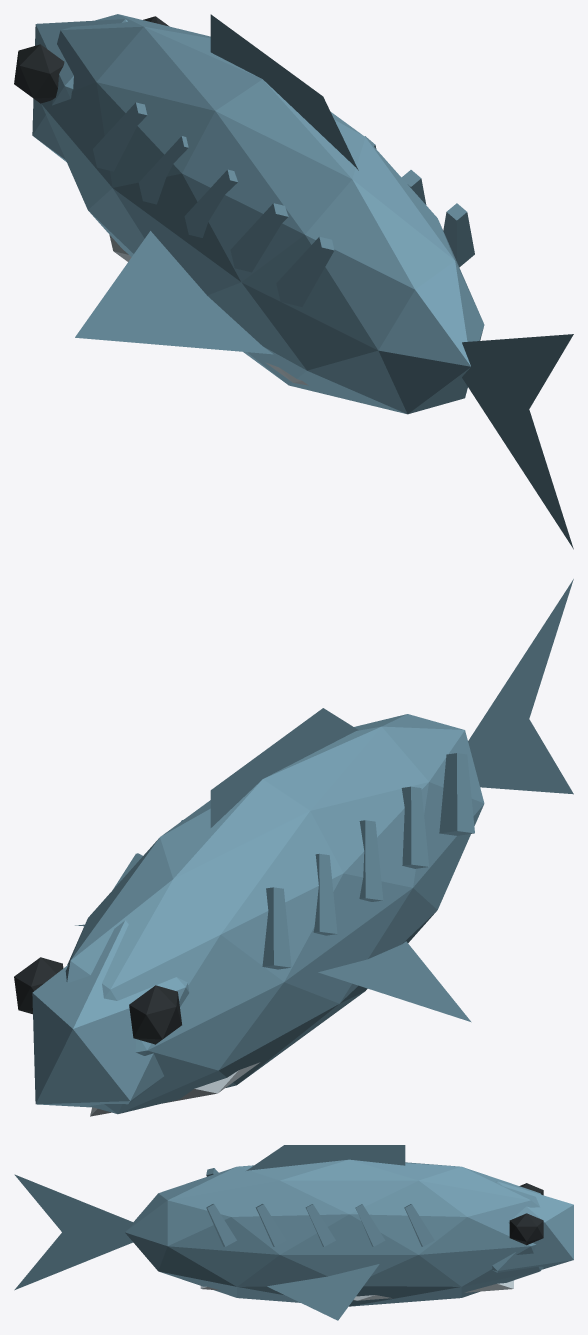
Rendered from Mackerel.fbx.
The picture shows the model from 3 angles, top to bottom: view 1: azimuth 30°, elevation 25°; view 2: azimuth 150°, elevation 25°; view 3: azimuth 270°, elevation 25°; orthographic projection. The views are drawn at different scales.
Visible parts, largest first — view 1: Body, Pectoral1, TailFin, DorsalFin, Head, Eye1, Stripe1_4, Stripe1_3, Stripe1_0, Stripe1_2, Stripe-1_4, Stripe1_1; view 2: Body, Head, TailFin, DorsalFin, Pectoral1, Stripe1_4, Eye1, Stripe1_0, Stripe1_3, Stripe1_2, Stripe1_1, Eye-1 (+1 smaller); view 3: Body, TailFin, Head, Pectoral-1, DorsalFin, Eye-1, Stripe-1_4, Stripe-1_3, Stripe-1_0, Stripe-1_2, Stripe-1_1, Belly.
Part boxes in pixels (x1,y1,x2,y2): Body: (41,14,484,414); Pectoral1: (75,231,273,354); TailFin: (462,334,573,549); DorsalFin: (210,14,358,170); Head: (32,19,127,161); Eye1: (14,44,64,103); Stripe1_4: (276,236,334,306); Stripe1_3: (230,203,288,272); Stripe1_0: (93,102,147,171); Stripe1_2: (184,169,237,237); Stripe-1_4: (443,203,474,267); Stripe1_1: (139,136,188,204); Body: (65,714,484,1114); Head: (32,920,189,1107); TailFin: (468,579,573,794); DorsalFin: (210,708,358,827); Pectoral1: (318,941,471,1022); Stripe1_4: (439,753,474,835); Eye1: (129,985,181,1044); Stripe1_0: (262,887,291,969); Stripe1_3: (401,786,429,868); Stripe1_2: (359,820,383,901); Stripe1_1: (313,853,337,935); Eye-1: (14,957,63,1014); Body: (125,1159,543,1306); TailFin: (14,1174,134,1290); Head: (492,1181,573,1272); Pectoral-1: (267,1264,379,1320); DorsalFin: (246,1145,405,1170); Eye-1: (509,1213,543,1245); Stripe-1_4: (206,1204,236,1246); Stripe-1_3: (255,1204,286,1246); Stripe-1_0: (404,1204,434,1246); Stripe-1_2: (305,1204,335,1246); Stripe-1_1: (355,1204,385,1246); Belly: (200,1280,513,1300).
Bounding box in the file's own units: 0.308 × 0.22 × 0.6981.
